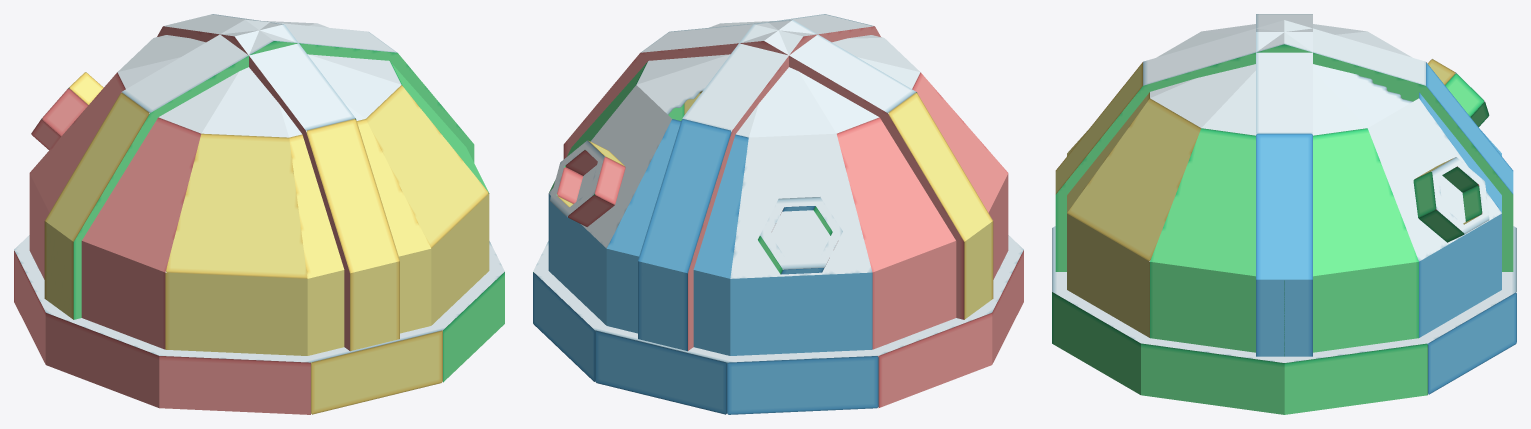
Rendered from reactor.obj.
3 views of the same model, side by side, from view 1: azimuth 30°, elevation 25°; view 2: azimuth 150°, elevation 25°; view 3: azimuth 270°, elevation 25° (orthographic).
Parts seen in each view (by area): view 1: body, cage, cage_b; view 2: body, cage, cage_b, bottom; view 3: body, cage, cage_b, bottom.
Part boxes in pixels (<box>): body: <box>29,21,489,363</box>; cage: <box>44,14,474,351</box>; cage_b: <box>14,235,504,414</box>; body: <box>548,21,1008,363</box>; cage: <box>563,14,993,351</box>; cage_b: <box>533,235,1023,414</box>; bottom: <box>576,156,832,269</box>; body: <box>1067,24,1501,356</box>; cage: <box>1055,14,1513,356</box>; cage_b: <box>1052,226,1516,414</box>; bottom: <box>1431,171,1465,223</box>.
Size of the model in its own units: 4.27 by 2.7 by 4.06.
1 material, 1 textured.
